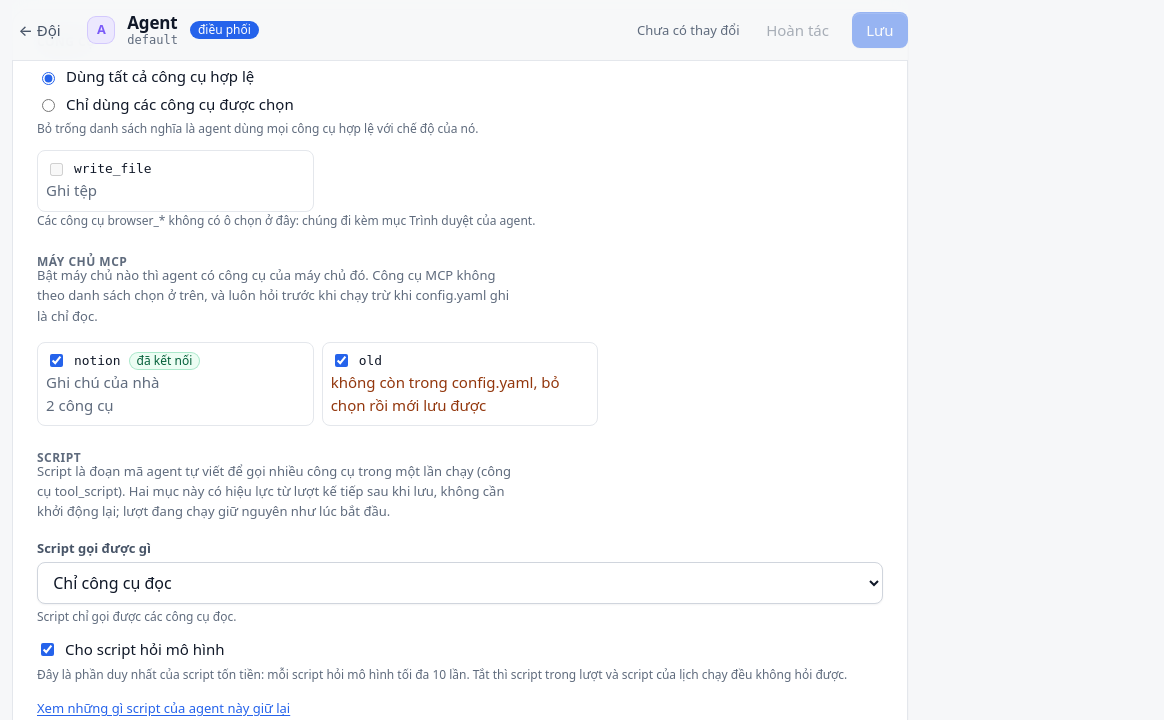
Test: the MCP servers of an agent › keeps a row for a server the file no longer declares, so it can be taken off
The image size is (1164, 720).
(page scrolled)
Check: the list item "old không còn trong config.yaml, bỏ chọn rồi mới lưu được" is shown, box [322,342,598,426]
Check: the list item "notion đã kết nối Ghi chú của nhà 2 công cụ" does not show "không còn trong config.yaml, bỏ chọn rồi mới lưu được", box [37,342,314,426]
What coordinates should you click on to do the following:
click the checkbox labelled "old"
I would click on:
 (341, 361)
Its box is [335,354,348,367].
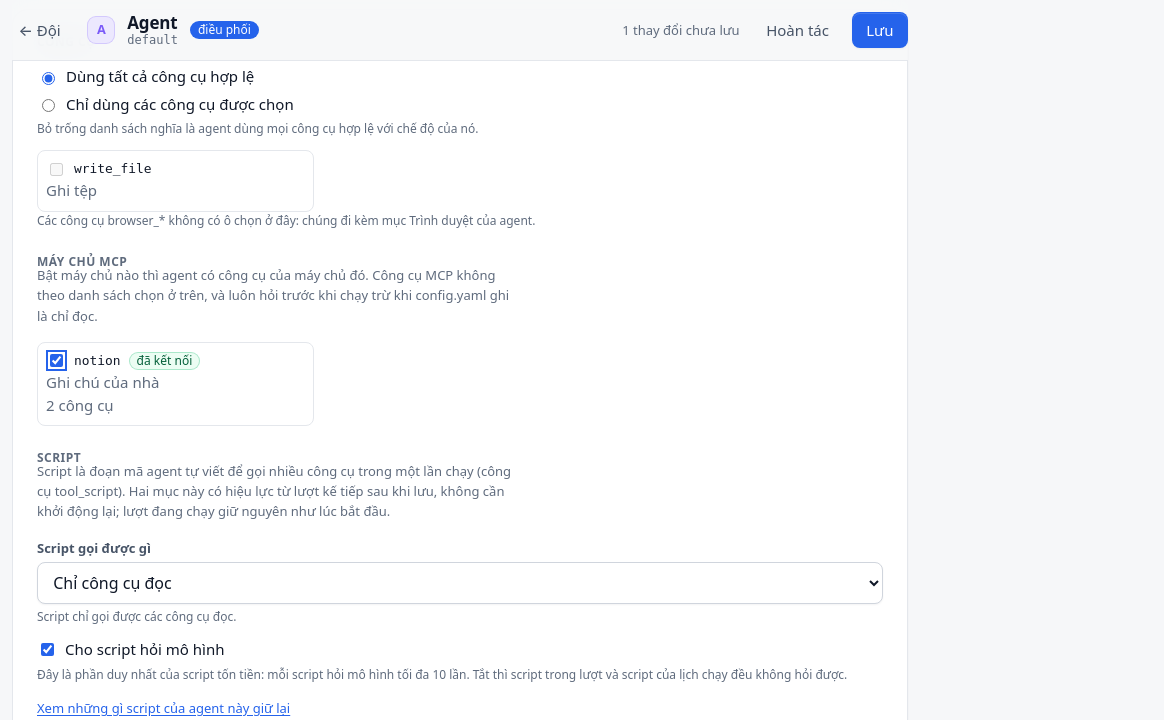
What coordinates should you click on to do the following:
click the button "Lưu"
I would click on:
 (880, 30)
Its box is [852,12,908,48].
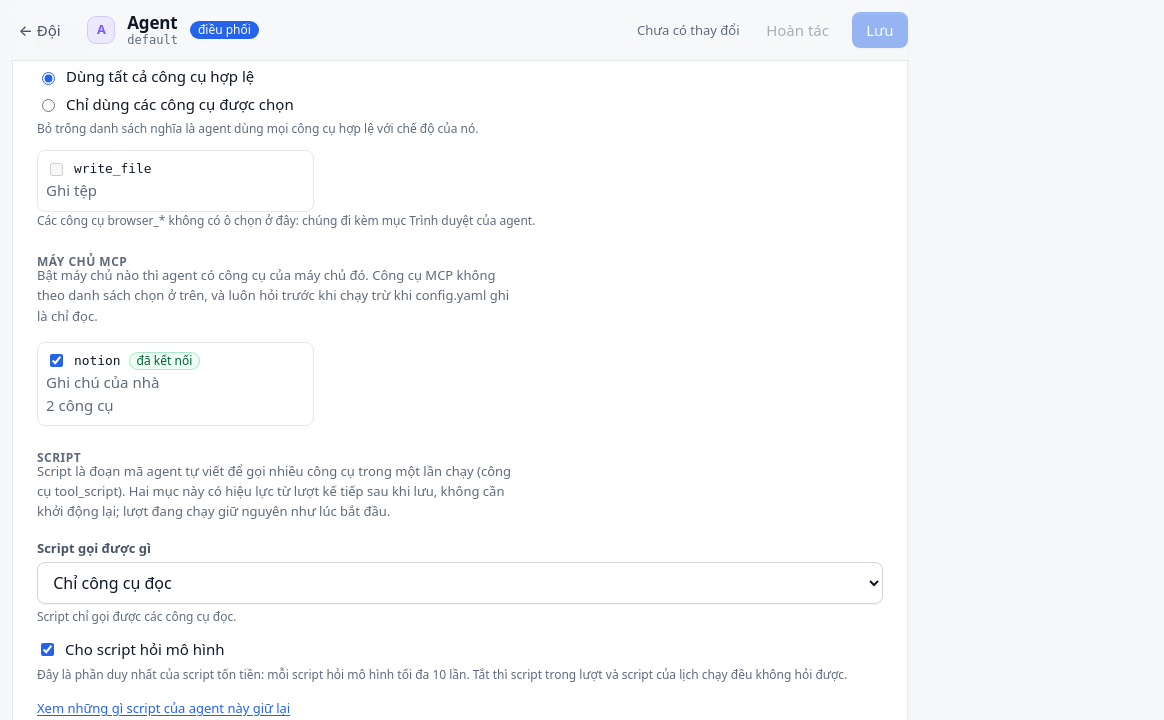
Check: the text "Chưa có thay đổi" is shown, box [637,20,740,40]
